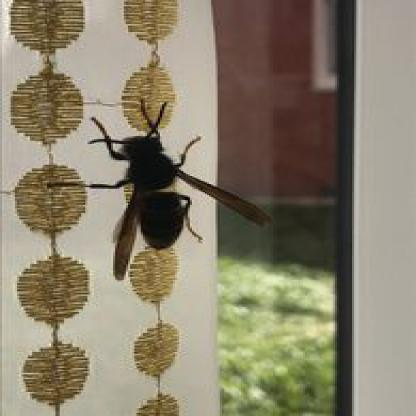Asian Hornet: (58, 106, 274, 280)
